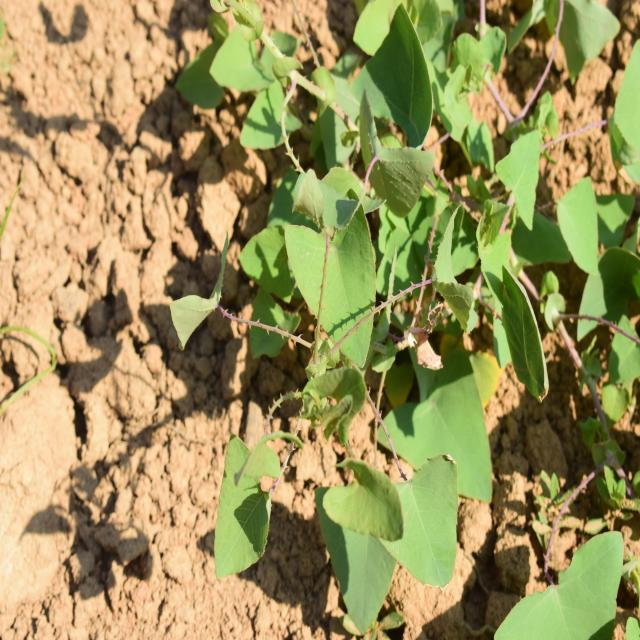Asiatic_Smartweed: (214, 362, 469, 610), (280, 112, 480, 368)
